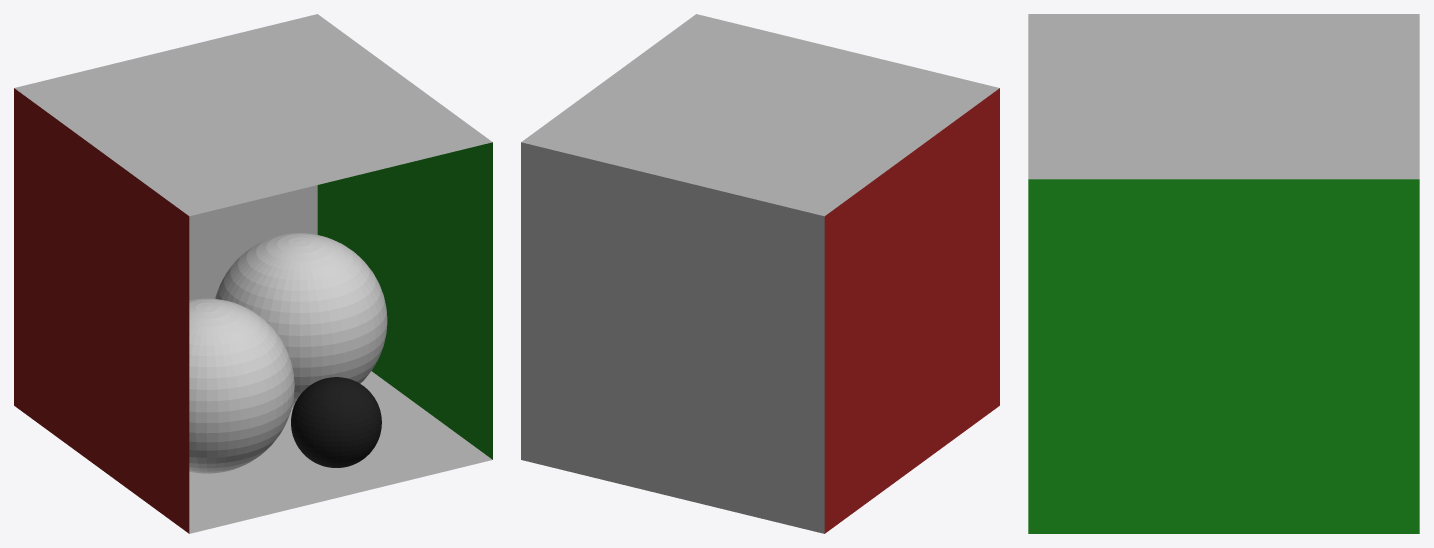
3 views of the same model, side by side, from view 1: azimuth 30°, elevation 25°; view 2: azimuth 150°, elevation 25°; view 3: azimuth 270°, elevation 25° (orthographic). The views are drawn at different scales.
Bounding box in the file's own units: 2 × 2 × 2.
